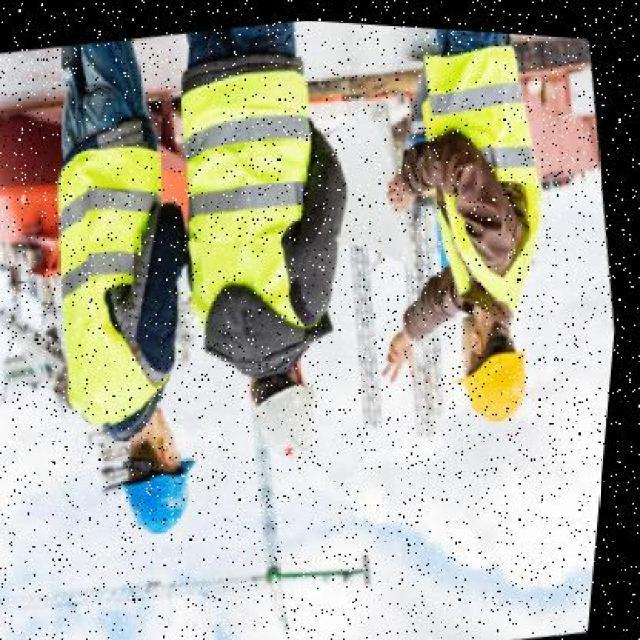helmet: (111, 431, 218, 539), (446, 316, 544, 421), (245, 362, 339, 466)
vest: (148, 41, 344, 333), (23, 114, 210, 420), (386, 22, 573, 309)
